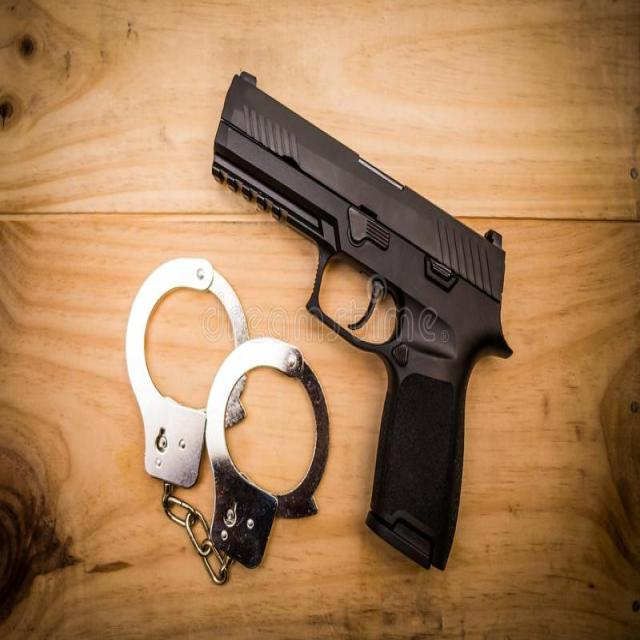HandGun: (212, 72, 513, 572)
